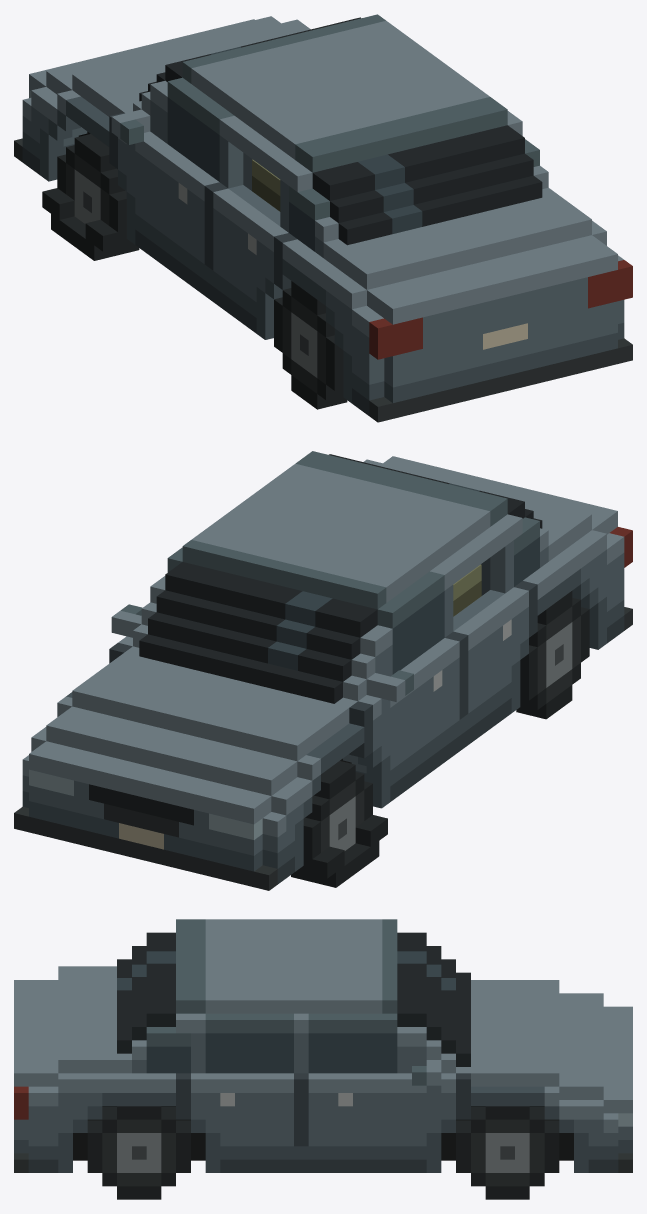
The model's file is Claude_family_car.glb.
3 renders of one model, top to bottom at view 1: azimuth 30°, elevation 25°; view 2: azimuth 150°, elevation 25°; view 3: azimuth 270°, elevation 25°, orthographic. The views are drawn at different scales.
Visible parts, largest first — view 1: Claude_family_car; view 2: Claude_family_car; view 3: Claude_family_car.
Part boxes in pixels (bbox=[...]): Claude_family_car: bbox=[14, 14, 632, 422]; Claude_family_car: bbox=[14, 451, 632, 890]; Claude_family_car: bbox=[14, 919, 632, 1199].
Size of the model in its own units: 1.9 by 1.4 by 4.2.
